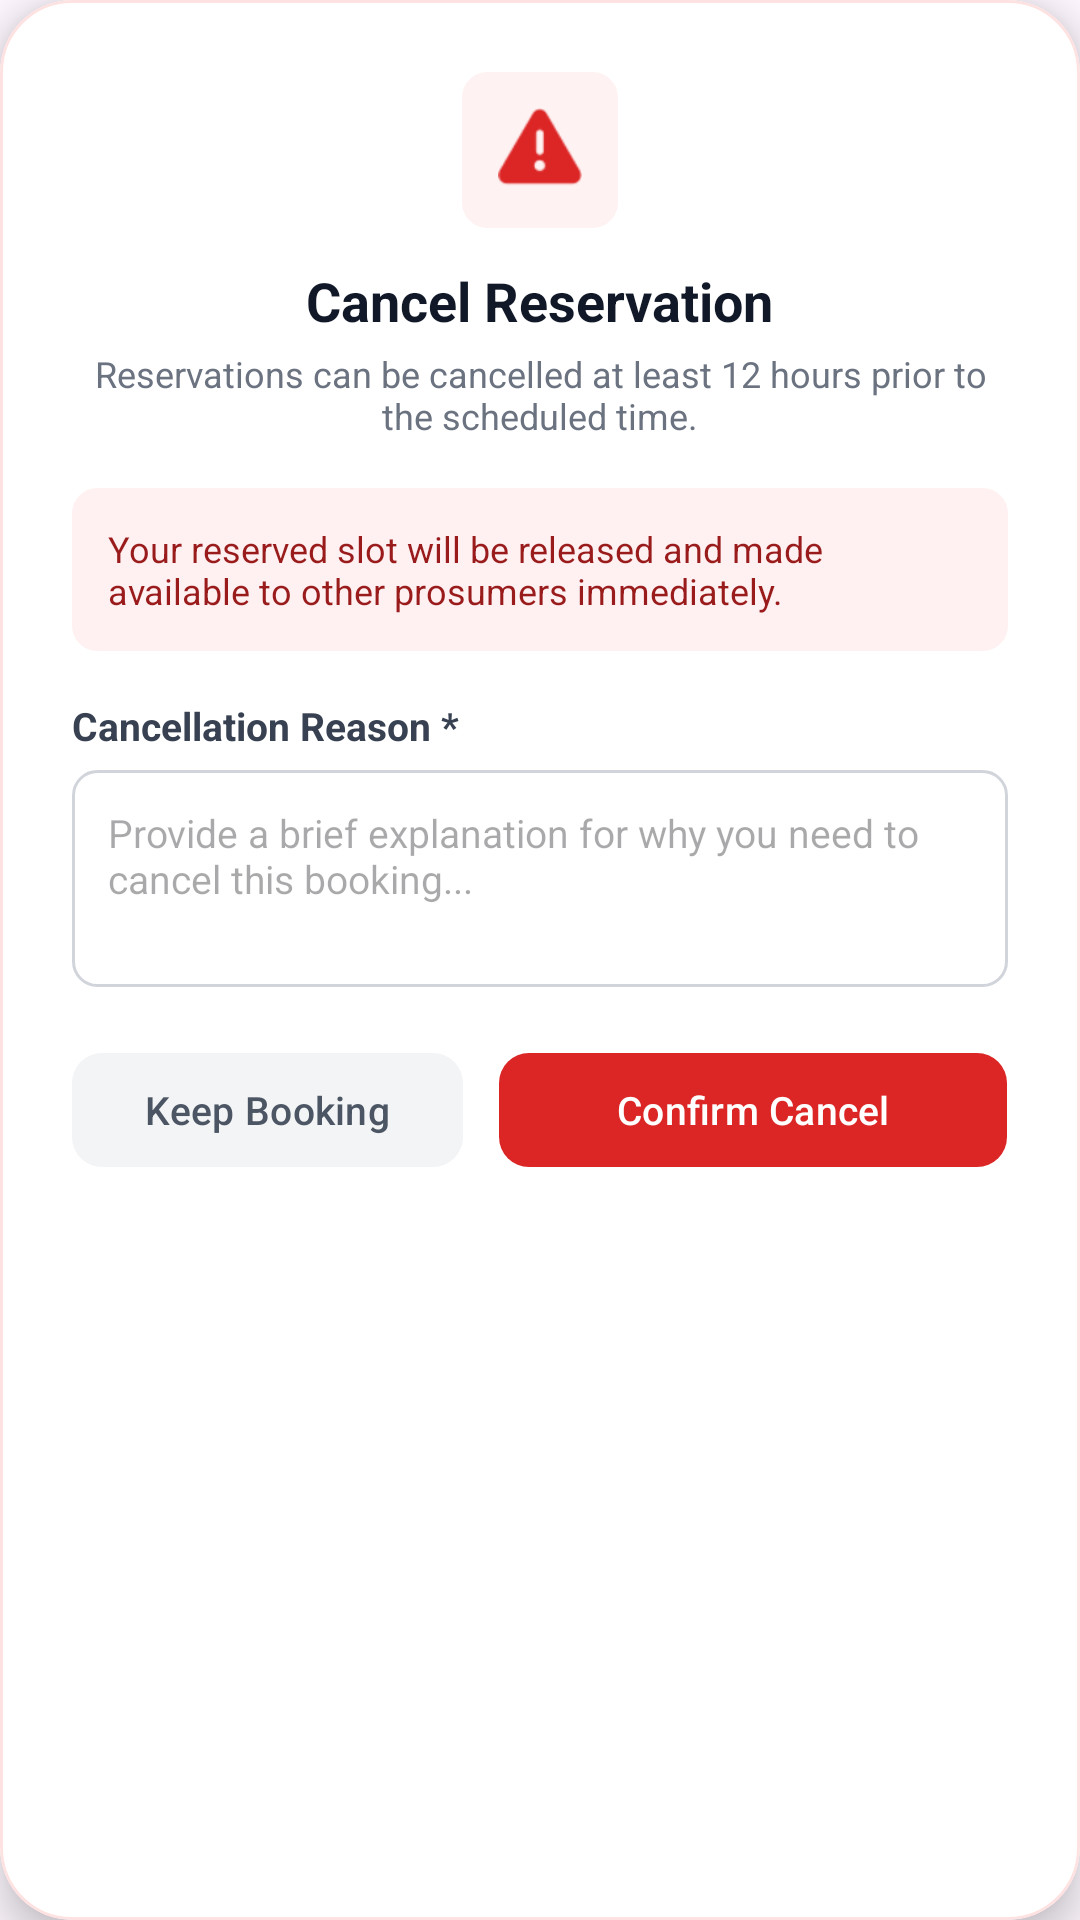

Icons on this 1080×1920 Android screen, each with its box as detection(x1, y1, x2, y2):
alert: detection(498, 108, 582, 185)
